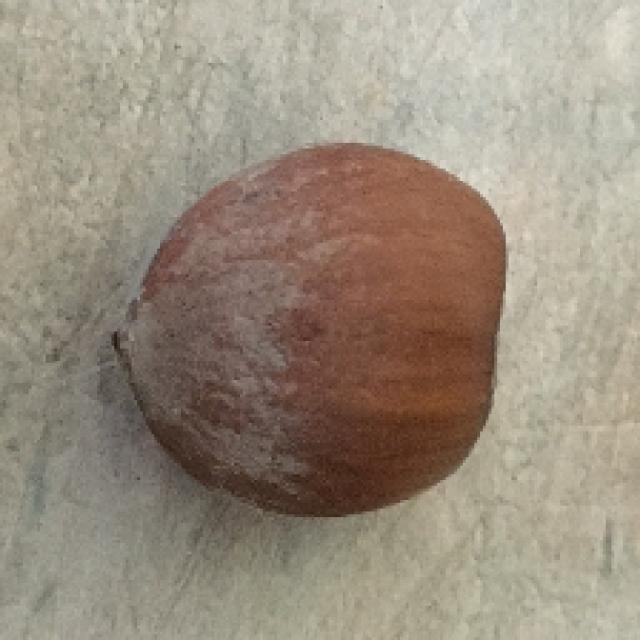qualityHazelnut: (117, 140, 510, 514)
